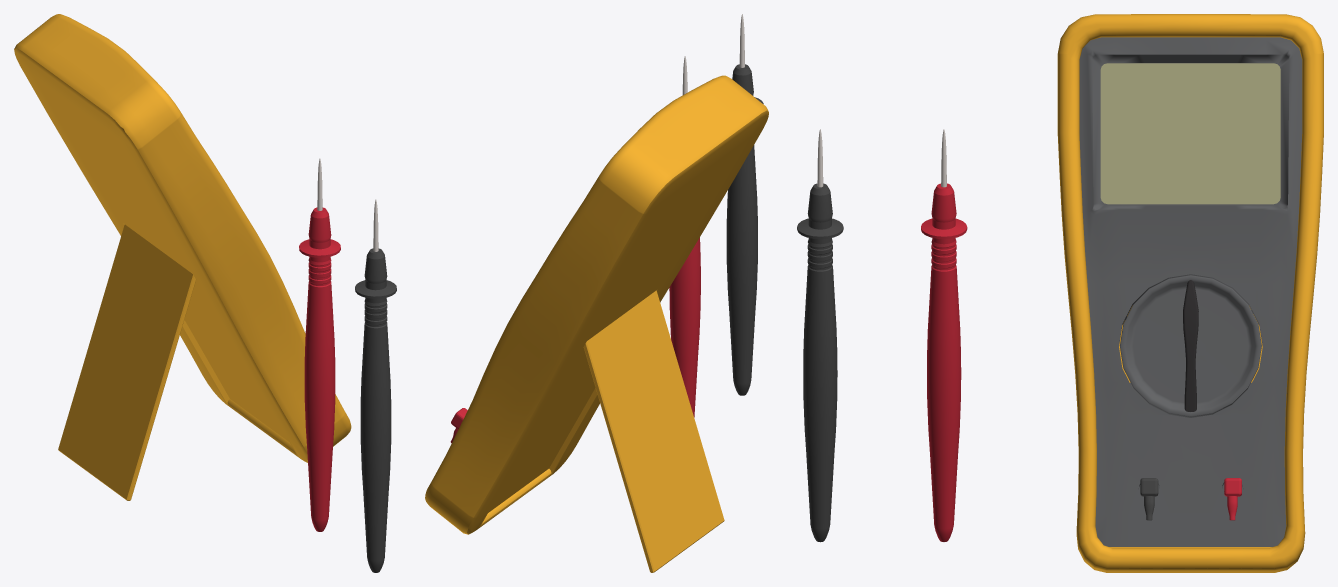
Rendered from ggggg.glb.
3 views of the same model, side by side, from view 1: azimuth 30°, elevation 25°; view 2: azimuth 150°, elevation 25°; view 3: azimuth 270°, elevation 25° (orthographic). The views are drawn at different scales.
Visible parts, largest first — view 1: pCube9, pCube8, testLeadBlackBody, testLeadRedBody; view 2: pCube9, pCube8, testLeadBlackBody, testLeadRedBody; view 3: pPlane5, pCube9, display, testLeadBlackBody, testLeadRedBody, switch_v_a.
Boxes of the visible parts, x1,y1,x2,y2 form: pCube9: [14, 14, 351, 462]; pCube8: [58, 224, 195, 500]; testLeadBlackBody: [355, 248, 396, 572]; testLeadRedBody: [299, 207, 340, 531]; pCube9: [425, 75, 768, 534]; pCube8: [583, 290, 724, 572]; testLeadBlackBody: [726, 64, 763, 395]; testLeadRedBody: [669, 237, 700, 417]; pPlane5: [1079, 37, 1302, 546]; pCube9: [1057, 14, 1323, 572]; display: [1100, 63, 1280, 204]; testLeadBlackBody: [797, 183, 843, 542]; testLeadRedBody: [921, 183, 967, 541]; switch_v_a: [1183, 280, 1198, 411].
Bounding box in the file's own units: 71.87 × 121 × 122.
